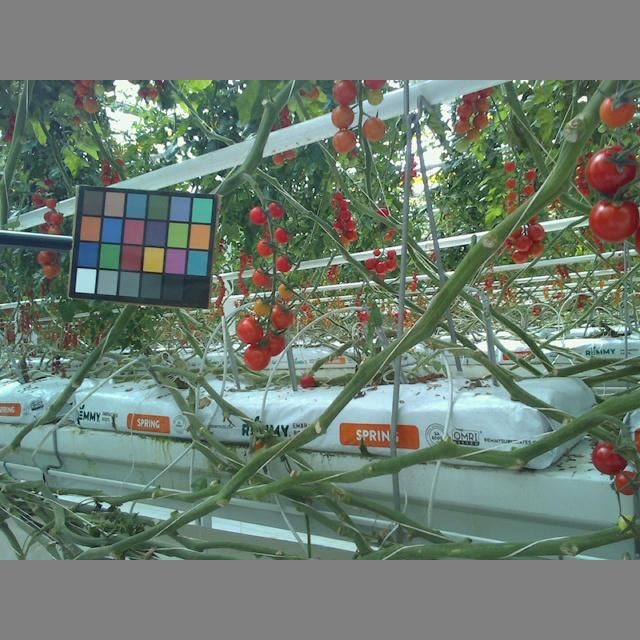pink: (599, 95, 639, 127), (329, 103, 356, 130), (359, 114, 387, 140), (332, 129, 358, 154), (252, 297, 271, 316), (276, 281, 295, 299)
red: (583, 145, 637, 194), (588, 197, 640, 243), (591, 442, 629, 476), (258, 327, 287, 359), (235, 317, 265, 344), (242, 344, 270, 372), (610, 467, 638, 494), (266, 306, 294, 330), (332, 81, 359, 101), (250, 266, 270, 288), (249, 204, 269, 224), (254, 237, 275, 256), (267, 197, 285, 219), (273, 254, 293, 273), (271, 226, 290, 245)
